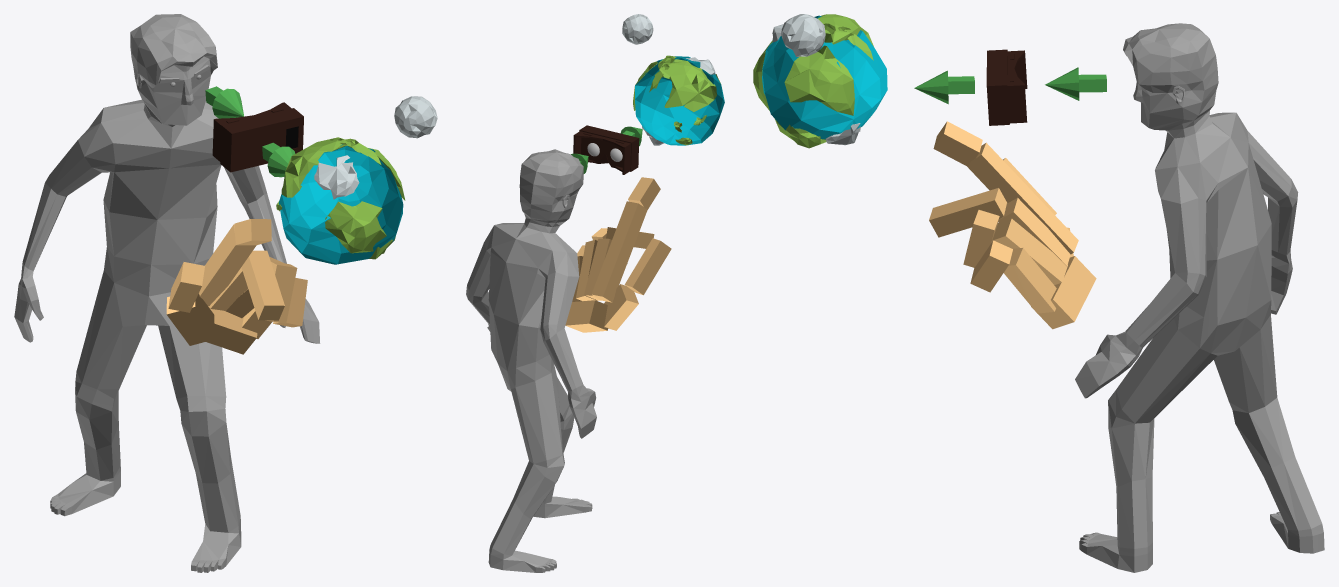
Rendered from mr_tutorial_v3.obj.
3 views of the same model, side by side, from view 1: azimuth 30°, elevation 25°; view 2: azimuth 150°, elevation 25°; view 3: azimuth 270°, elevation 25° (orthographic). The views are drawn at different scales.
Parts seen in each view (by area): view 1: Human_Mesh_Human_CylinderMesh.003, planets, mesh1398897958, Google:pCube58, mesh546483871.001, mesh546483871; view 2: Human_Mesh_Human_CylinderMesh.003, mesh1398897958, planets, Google:pCube58; view 3: Human_Mesh_Human_CylinderMesh.003, mesh1398897958, planets, Google:pCube58.
Boxes of the visible parts, box(x1,y1,x2,y2) form: Human_Mesh_Human_CylinderMesh.003: box(14, 14, 320, 572); planets: box(276, 96, 437, 264); mesh1398897958: box(166, 219, 307, 354); Google:pCube58: box(212, 102, 303, 172); mesh546483871.001: box(212, 88, 244, 118); mesh546483871: box(267, 146, 295, 177); Human_Mesh_Human_CylinderMesh.003: box(466, 149, 596, 572); mesh1398897958: box(565, 177, 671, 332); planets: box(622, 14, 724, 145); Google:pCube58: box(573, 125, 639, 174); Human_Mesh_Human_CylinderMesh.003: box(1075, 23, 1324, 572); mesh1398897958: box(929, 121, 1096, 329); planets: box(753, 14, 887, 148); Google:pCube58: box(986, 49, 1027, 125).
Bounding box in the file's own units: 3.63 × 8.89 × 8.17.
